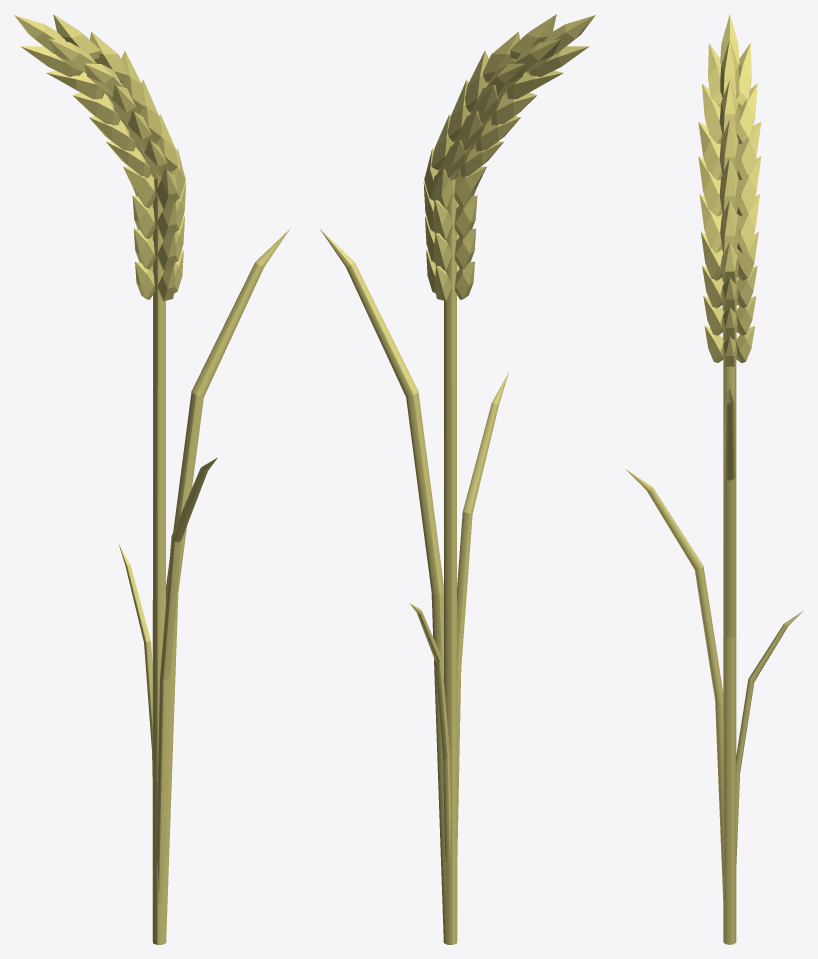
File: Wheat2.fbx
3 views of the same model, side by side, from view 1: azimuth 30°, elevation 25°; view 2: azimuth 150°, elevation 25°; view 3: azimuth 270°, elevation 25° (orthographic). The views are drawn at different scales.
Visible parts, largest first — view 1: Wheat2; view 2: Wheat2; view 3: Wheat2.
Boxes of the visible parts, left/top/right/bottom form: Wheat2: left=14, top=14, right=290, bottom=944; Wheat2: left=319, top=14, right=595, bottom=944; Wheat2: left=625, top=14, right=802, bottom=944.
Bounding box in the file's own units: 1.8 × 5.97 × 1.12.
